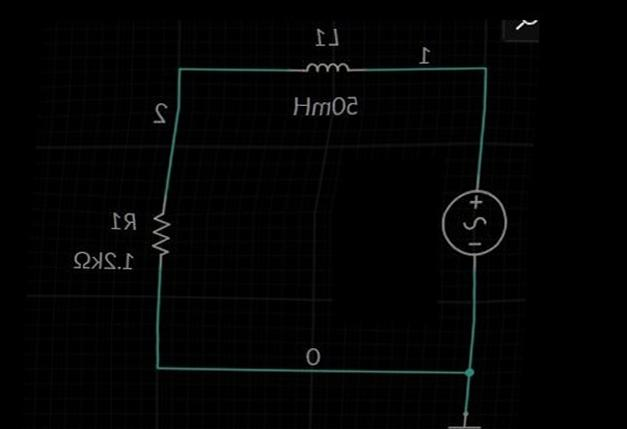Battery: (417, 169, 521, 271)
